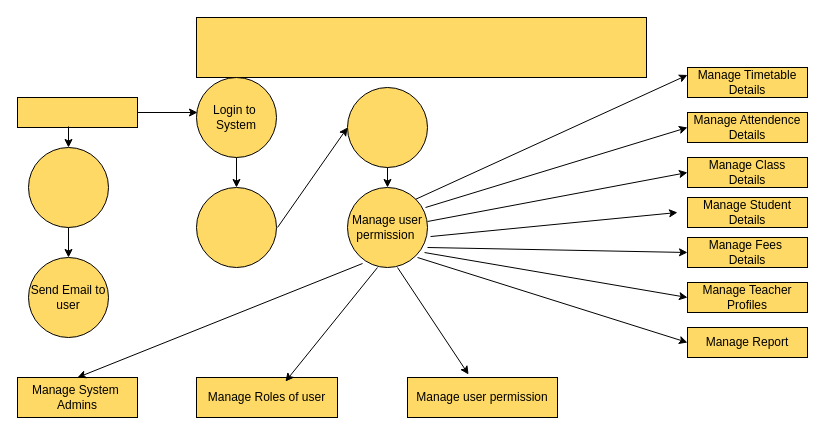
Some shapes in this 825 by 435 pixel diagram are drawn without their labels. The box of each missing label's shape, as (x1, y1, x2, y2) in pixels:
Admin: (16, 96, 138, 128)
Check Credentials: (196, 186, 276, 268)
Check roles of Access: (346, 86, 428, 168)
Forgot Password: (28, 146, 108, 228)
Student Information System: (196, 16, 646, 78)
